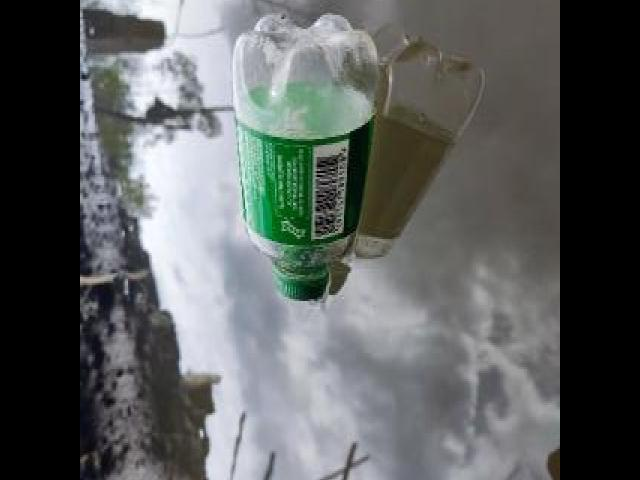Bottle: (223, 0, 385, 311)
